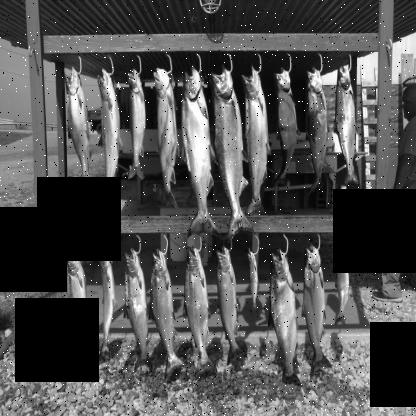fish: (210, 63, 254, 240), (180, 66, 220, 235), (146, 247, 186, 380), (268, 249, 301, 387), (242, 65, 272, 216), (182, 245, 216, 375), (300, 243, 332, 378), (96, 67, 124, 213), (122, 246, 154, 371), (152, 66, 180, 206), (63, 65, 92, 194), (215, 244, 245, 368), (272, 67, 302, 187), (333, 63, 361, 185), (305, 67, 328, 198), (65, 250, 91, 364), (96, 247, 117, 357), (126, 66, 145, 180), (334, 246, 350, 328), (247, 248, 258, 313)
